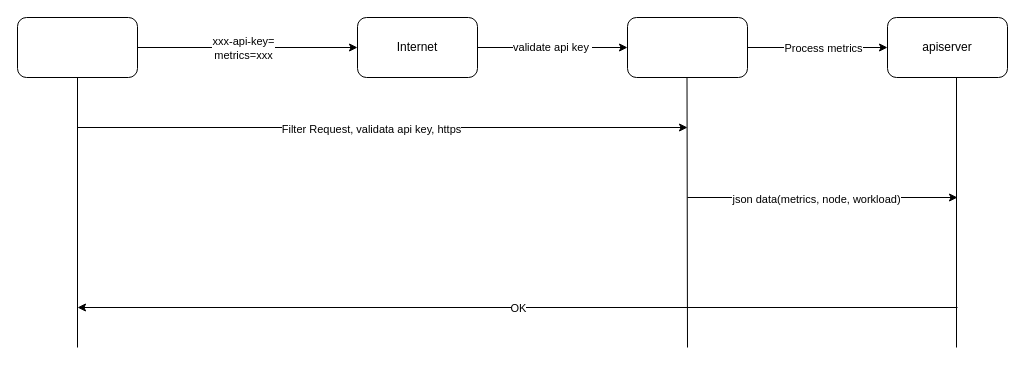
Some shapes in this 1025 by 366 pixel diagram are drawn without their labels. The centre of each missing label's shape, as x and y in pixels:
"Client Agent" goes at [77,47].
"Gateway(ingress controller)" goes at [687,47].
